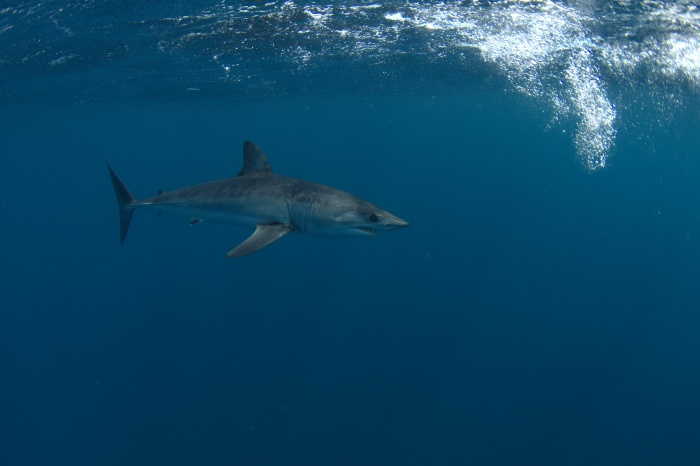Mako: (96, 140, 413, 260)
